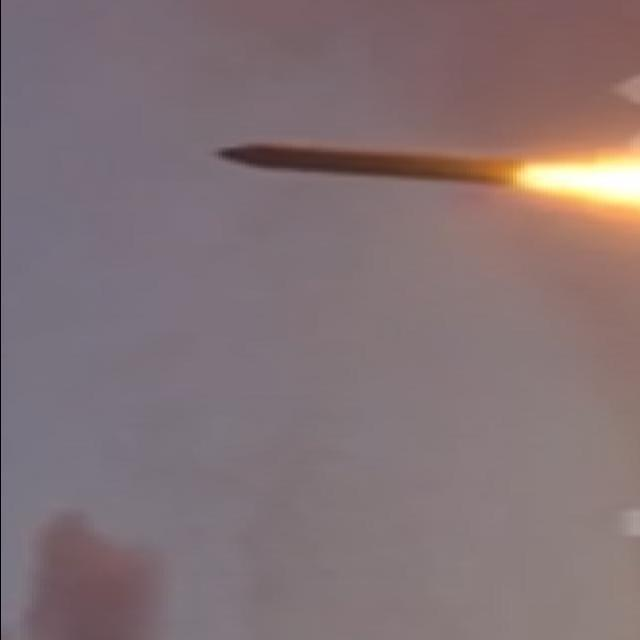missile: (216, 140, 522, 190)
